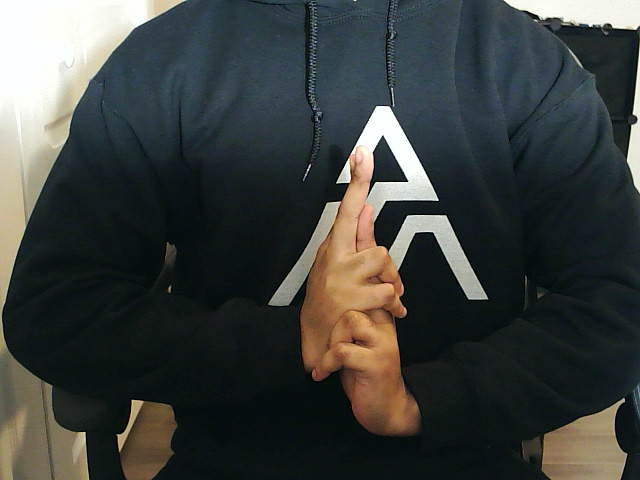Ram: (304, 145, 417, 437)
